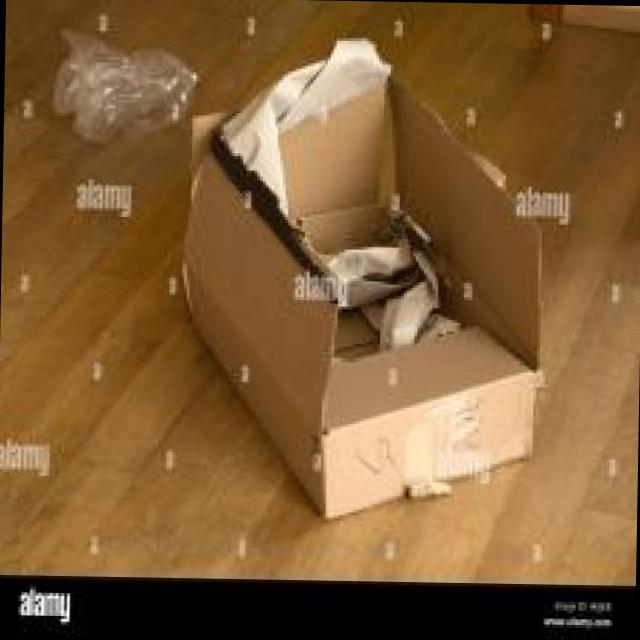box: (189, 42, 542, 521)
opened: (195, 41, 538, 383)
